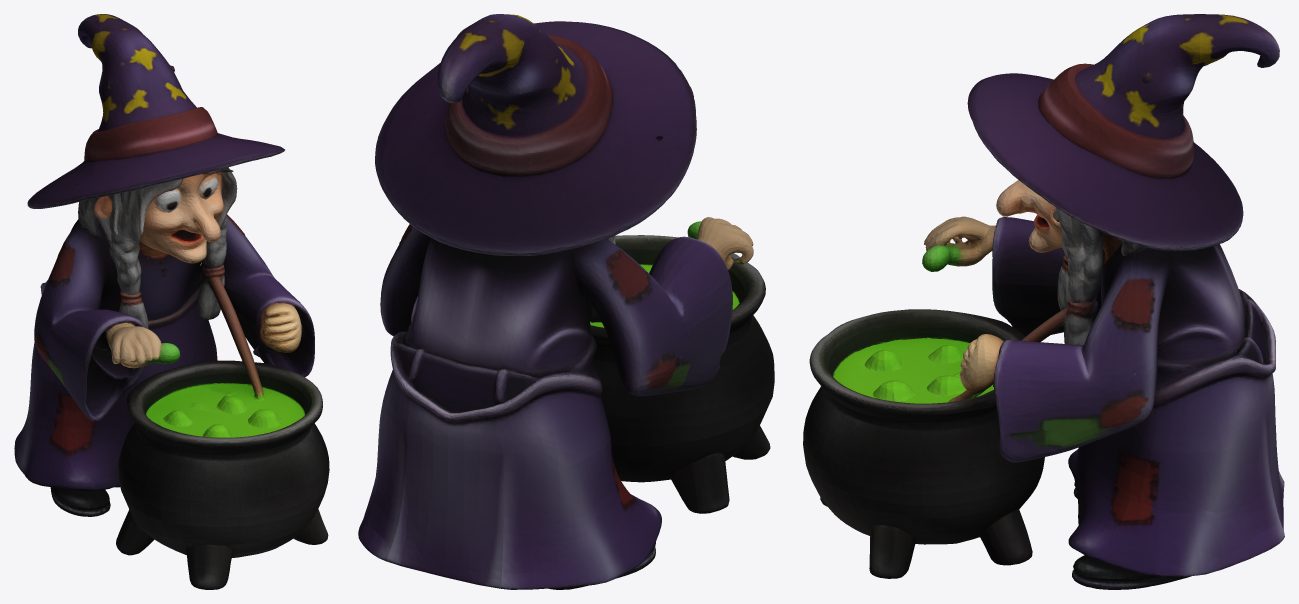
The model's file is witch.glb.
3 views of the same model, side by side, from view 1: azimuth 30°, elevation 25°; view 2: azimuth 150°, elevation 25°; view 3: azimuth 270°, elevation 25° (orthographic). The views are drawn at different scales.
Visible parts, largest first — view 1: world; view 2: world; view 3: world.
Part boxes in pixels (x1,y1,x2,y2): world: (14,14,329,589); world: (358,14,774,589); world: (803,14,1284,589).
Bounding box in the file's own units: 0.5562 × 0.9993 × 0.8397.
Materials: 1 (1 with a texture image).
